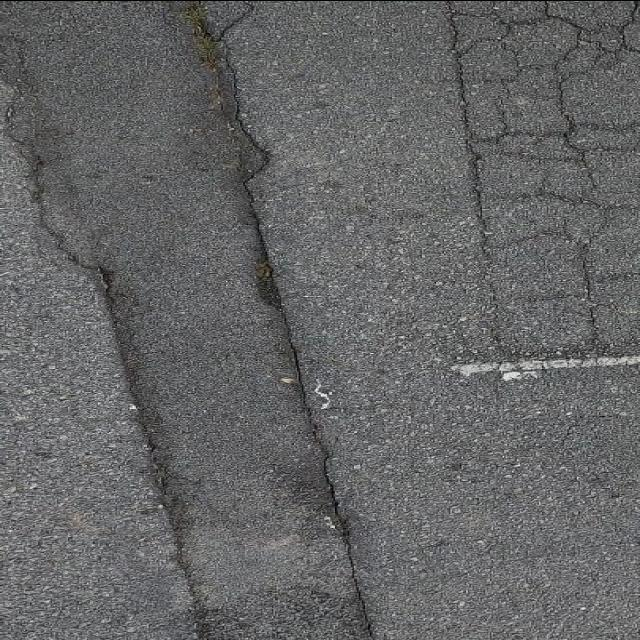cracks: (0, 0, 413, 640), (444, 1, 634, 407)
